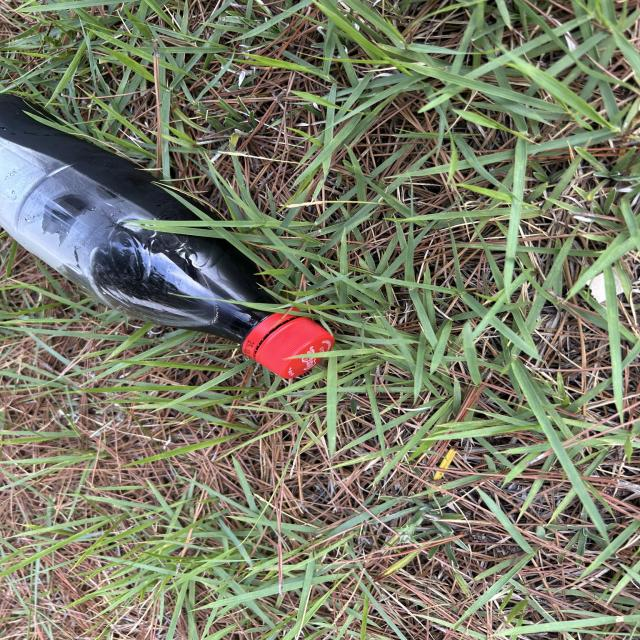high: (0, 94, 333, 378)
